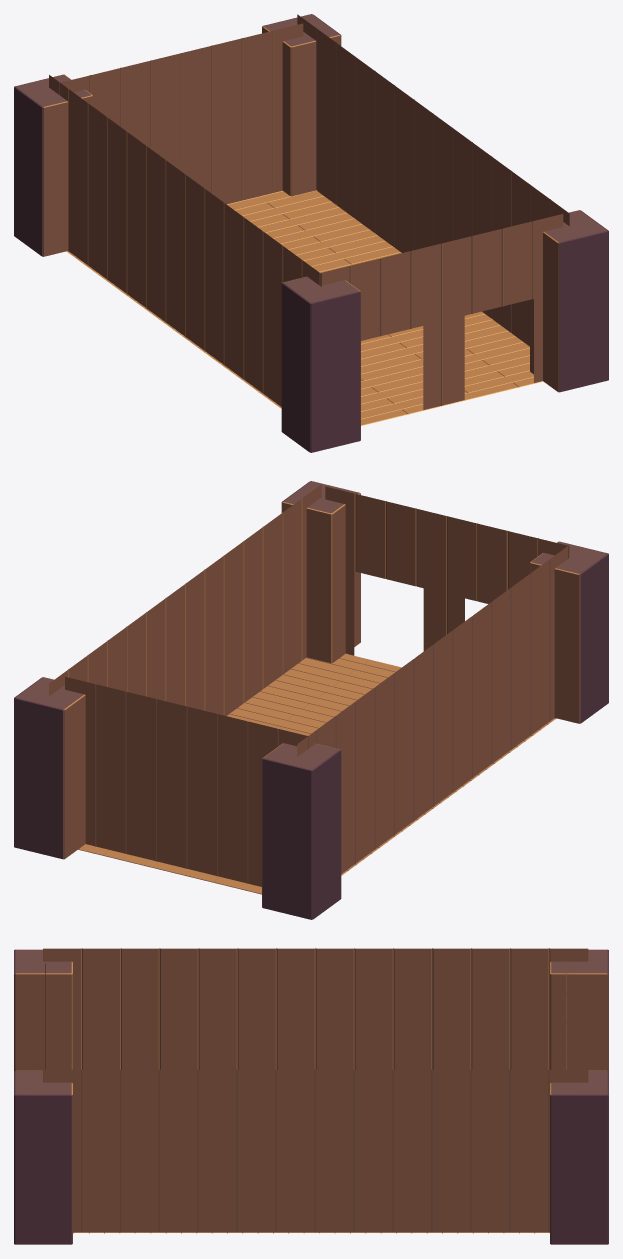
File: Saloon_MainArea_01.FBX
3 renders of one model, top to bottom at view 1: azimuth 30°, elevation 25°; view 2: azimuth 150°, elevation 25°; view 3: azimuth 270°, elevation 25°, orthographic.
Visible parts, largest first — view 1: Saloon_MainArea; view 2: Saloon_MainArea; view 3: Saloon_MainArea.
Boxes of the visible parts, x1,y1,x2,y2 form: Saloon_MainArea: (14, 14, 608, 452); Saloon_MainArea: (14, 481, 608, 919); Saloon_MainArea: (14, 948, 608, 1244).
Bounding box in the file's own units: 675 × 351 × 1162.
